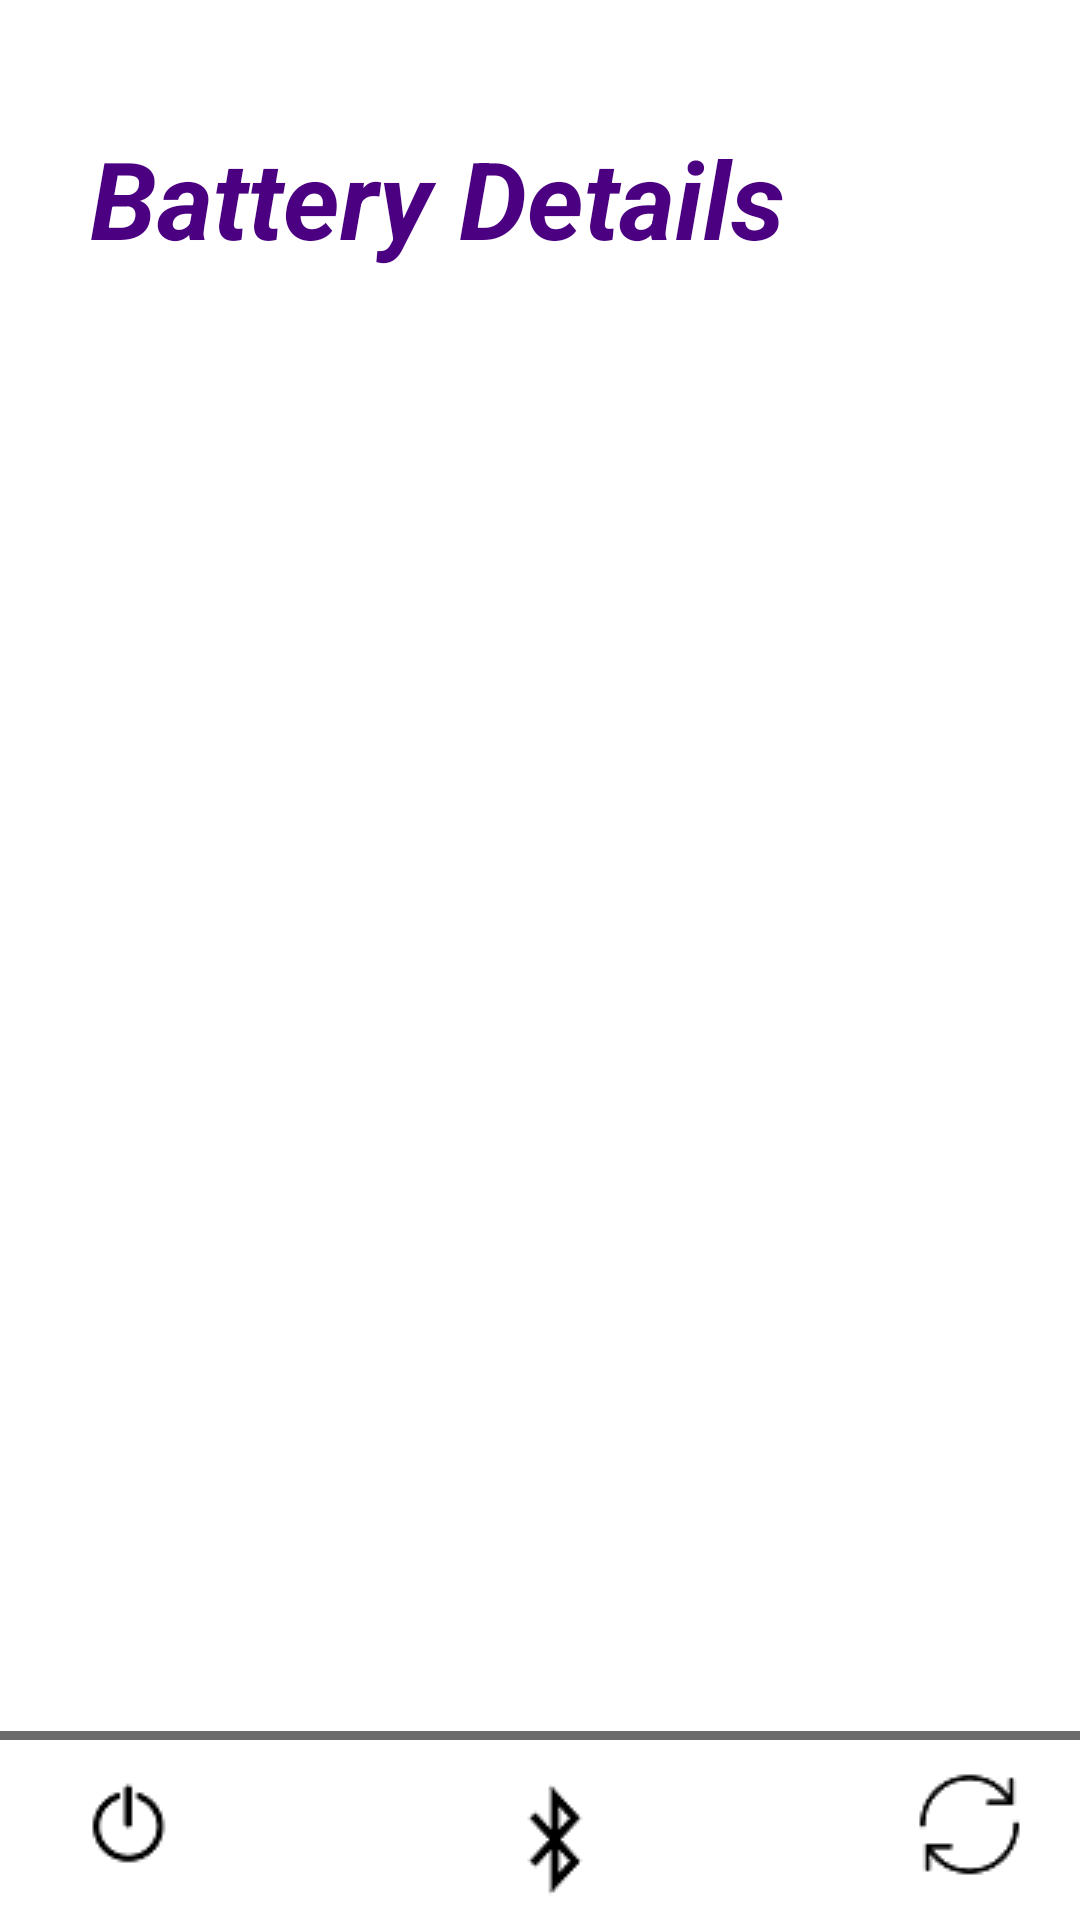

Icon click points for this 1080px×1920px phone screenshot, format point (x, y):
power: point (129, 1823)
